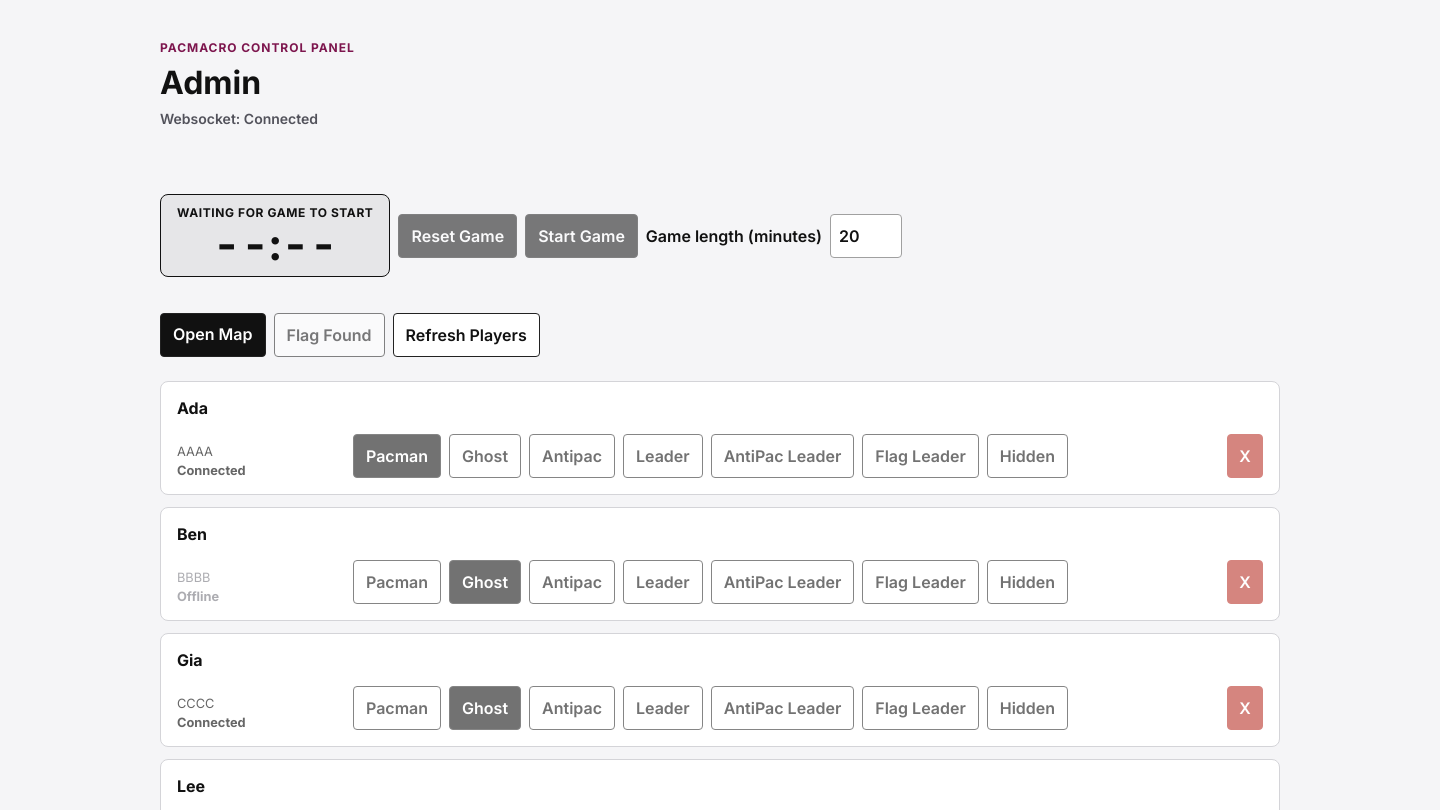
Test case: AdminPageComponent › can manually refresh the current player list
The width and height of the screenshot is (1440, 810).
Click the button "Refresh Players".
click(466, 335)  # box [392, 313, 540, 357]
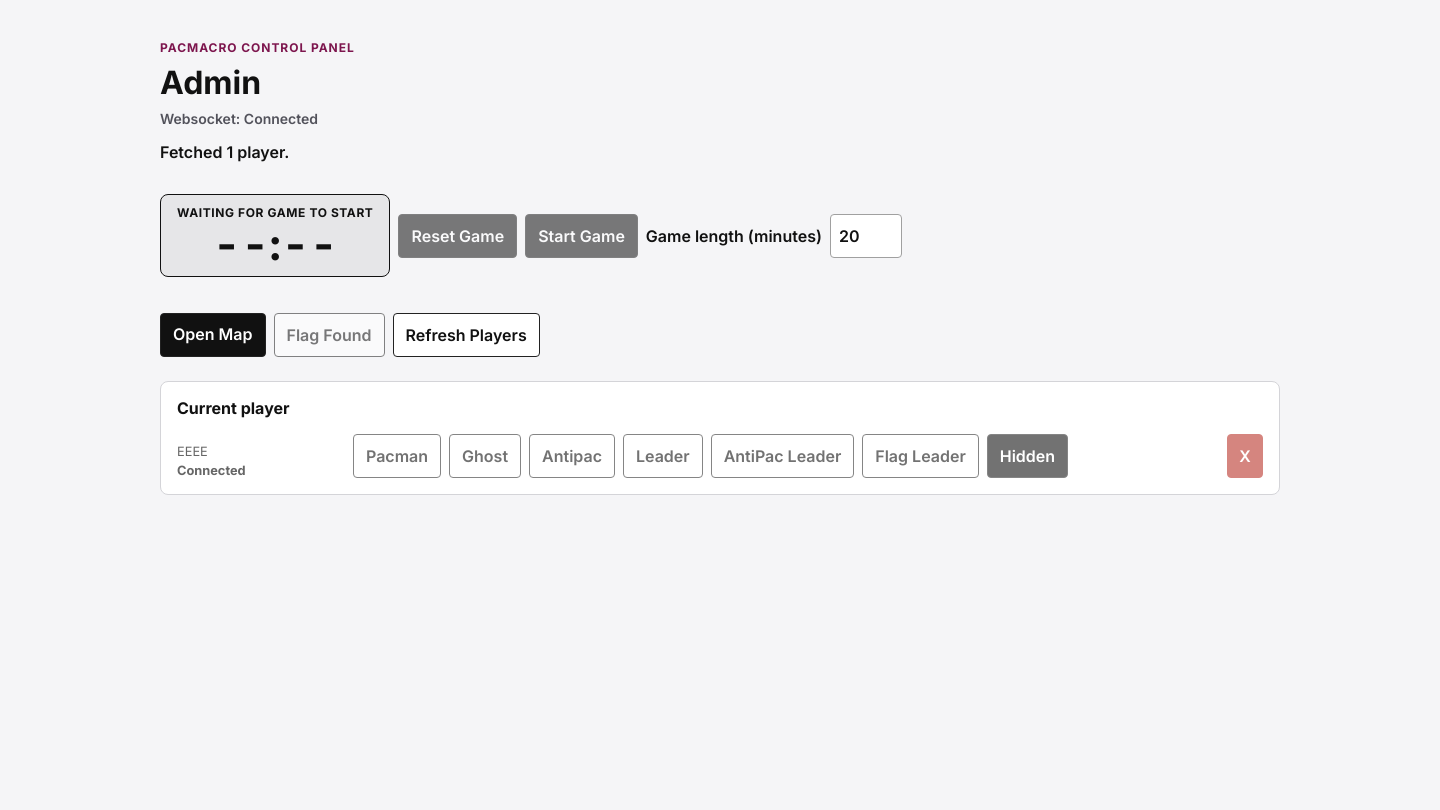
Result: the text "Current player" is shown at [177, 398, 290, 418]
